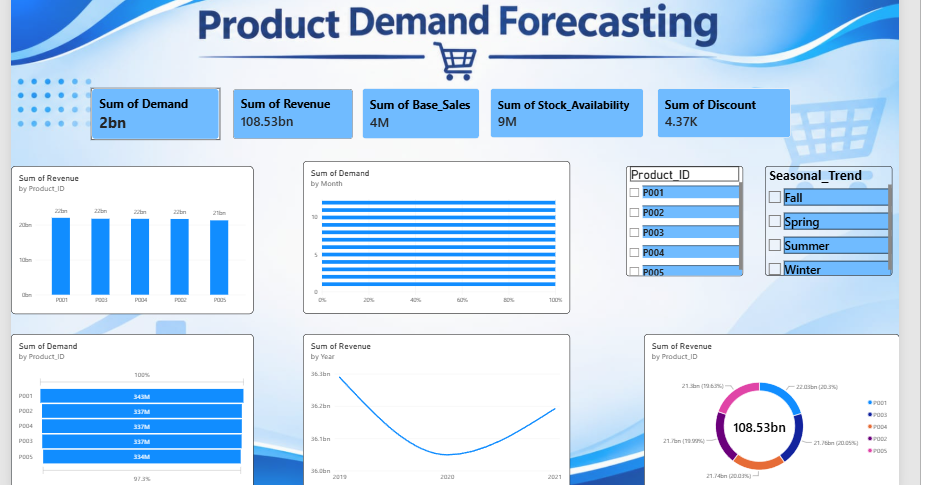

The dashboard page shown, as its layout file describes it:
{"tool":"powerbi","page":{"name":"Page 1","canvas":[1920,1080],"ordinal":0},"visuals":[{"type":"cardVisual","fields":{"Data":["Sum(demand_forecasting_data-01.Revenue)"]},"box":[451,211.7,214.2,108.3],"z":0},{"type":"cardVisual","fields":{"Data":["Sum(demand_forecasting_data-01.Base_Sales)"]},"box":[758.4,214.2,200,111.1],"z":1000},{"type":"cardVisual","fields":{"Data":["Sum(demand_forecasting_data-01.Stock_Availability)"]},"box":[1012.9,211.7,211.1,108.9],"z":2000},{"type":"cardVisual","fields":{"Data":["Sum(demand_forecasting_data-01.Discount)"]},"box":[1327.9,211.7,211.7,108.3],"z":3000},{"type":"cardVisual","fields":{"Data":["Sum(demand_forecasting_data-01.Demand)"]},"box":[108.3,214.2,241.9,110.9],"z":4000},{"type":"clusteredColumnChart","fields":{"Category":["demand_forecasting_data-01.Product_ID"],"Y":["Sum(demand_forecasting_data-01.Revenue)"]},"box":[50.4,372.9,395.6,352.8],"z":5000},{"type":"hundredPercentStackedBarChart","fields":{"Category":["demand_forecasting_data-01.Month"],"Y":["Sum(demand_forecasting_data-01.Demand)"]},"box":[496.4,385.5,408.2,330.1],"z":6000},{"type":"lineChart","fields":{"Category":["demand_forecasting_data-01.Year"],"Y":["Sum(demand_forecasting_data-01.Revenue)"]},"box":[960,385.5,398.1,355.3],"z":7000},{"type":"donutChart","fields":{"Category":["demand_forecasting_data-01.Product_ID"],"Y":["Sum(demand_forecasting_data-01.Revenue)"]},"box":[1484.1,372.9,378,383],"z":8000},{"type":"funnel","fields":{"Category":["demand_forecasting_data-01.Product_ID"],"Y":["Sum(demand_forecasting_data-01.Demand)"]},"box":[350.2,740.8,415.7,307.4],"z":9000},{"type":"slicer","fields":{"Values":["demand_forecasting_data-01.Product_ID"]},"box":[1630.2,50.4,253.3,237.8],"z":10000}]}

Visuals, with their boxes on the page's 1920x1080 design canvas (x1, y1, x2, y2). These are canvas units, not pixel positions in the 927x485 screenshot, which may show the page scaled, cropped or inside an application window:
cardVisual - Sum(demand_forecasting_data-01.Revenue): {"x1": 451, "y1": 212, "x2": 665, "y2": 320}
cardVisual - Sum(demand_forecasting_data-01.Base_Sales): {"x1": 758, "y1": 214, "x2": 958, "y2": 325}
cardVisual - Sum(demand_forecasting_data-01.Stock_Availability): {"x1": 1013, "y1": 212, "x2": 1224, "y2": 321}
cardVisual - Sum(demand_forecasting_data-01.Discount): {"x1": 1328, "y1": 212, "x2": 1540, "y2": 320}
cardVisual - Sum(demand_forecasting_data-01.Demand): {"x1": 108, "y1": 214, "x2": 350, "y2": 325}
clusteredColumnChart - demand_forecasting_data-01.Product_ID x Sum(demand_forecasting_data-01.Revenue): {"x1": 50, "y1": 373, "x2": 446, "y2": 726}
hundredPercentStackedBarChart - demand_forecasting_data-01.Month x Sum(demand_forecasting_data-01.Demand): {"x1": 496, "y1": 386, "x2": 905, "y2": 716}
lineChart - demand_forecasting_data-01.Year x Sum(demand_forecasting_data-01.Revenue): {"x1": 960, "y1": 386, "x2": 1358, "y2": 741}
donutChart - demand_forecasting_data-01.Product_ID x Sum(demand_forecasting_data-01.Revenue): {"x1": 1484, "y1": 373, "x2": 1862, "y2": 756}
funnel - demand_forecasting_data-01.Product_ID x Sum(demand_forecasting_data-01.Demand): {"x1": 350, "y1": 741, "x2": 766, "y2": 1048}
slicer - demand_forecasting_data-01.Product_ID: {"x1": 1630, "y1": 50, "x2": 1884, "y2": 288}
